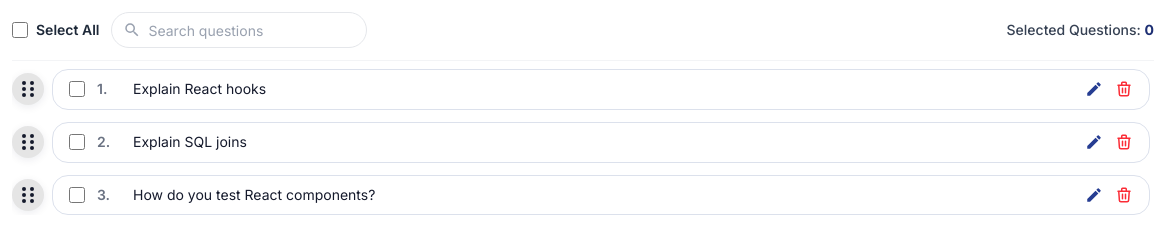
QuestionList › searches case-insensitively, keeps original numbering, and clears search
This screenshot has width=1164, height=232.
Type " SQL " into the search field labelled "Search questions" at (240, 30), box [112,12,368,48]
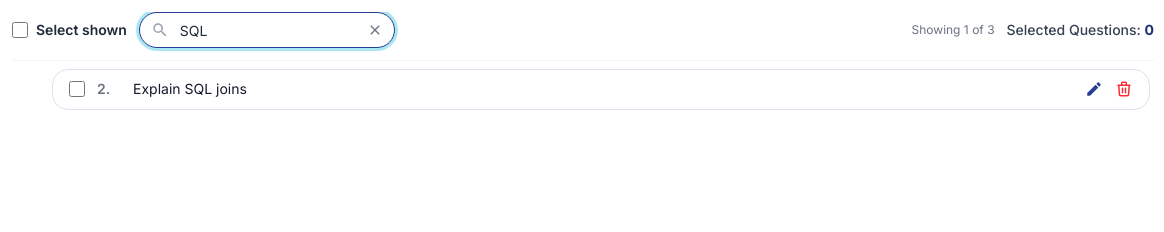
Expected: the text "Explain SQL joins" is shown, [133,80,247,97]
Expected: the text "Explain React hooks" is gone
Expected: the text "Showing 1 of 3" is shown, [912,22,994,38]
Click the button named "Clear search" at (375, 30), box [363,18,387,42]
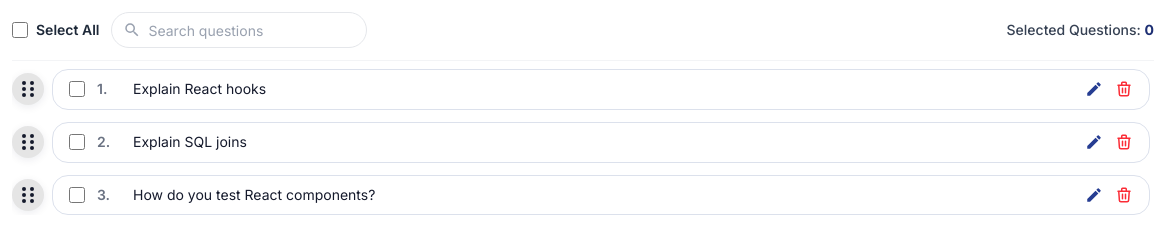
Expected: the number of checkboxes named "Select question" is 3, [69,81,85,97]; [69,134,85,150]; [69,187,85,203]
